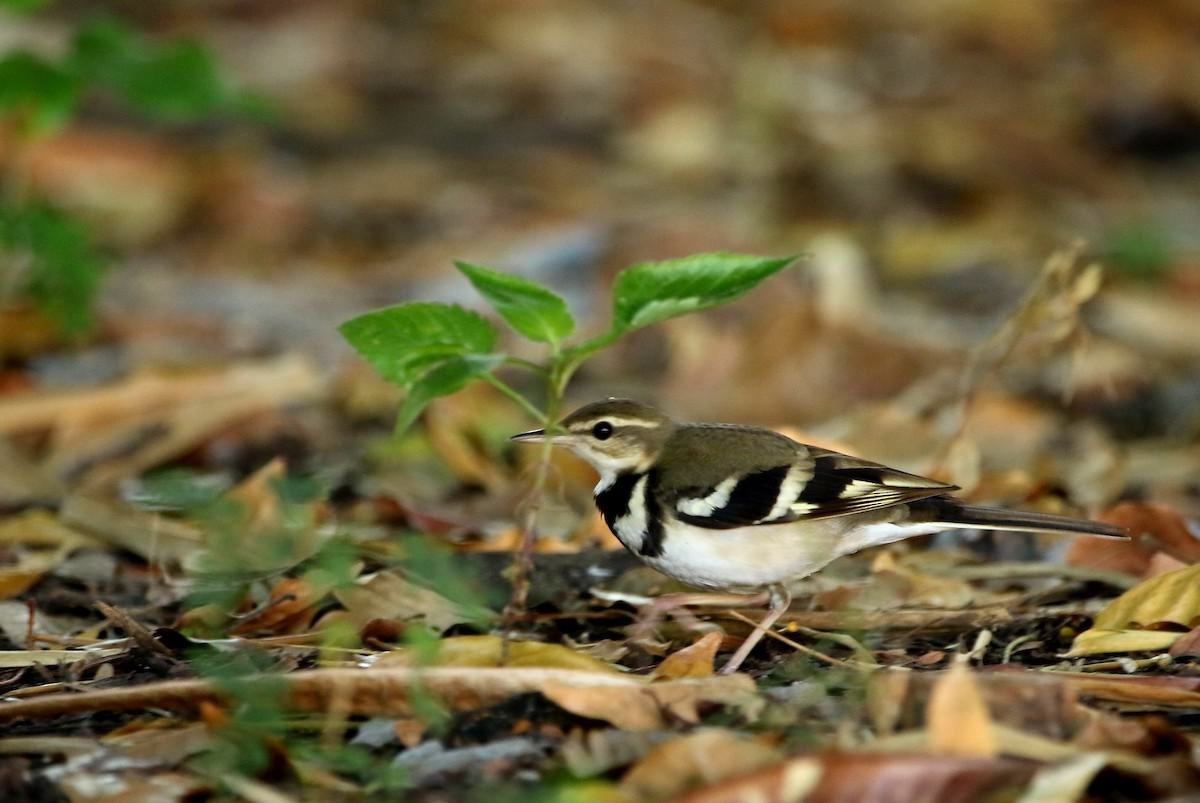wagtail: (504, 369, 1106, 695)
